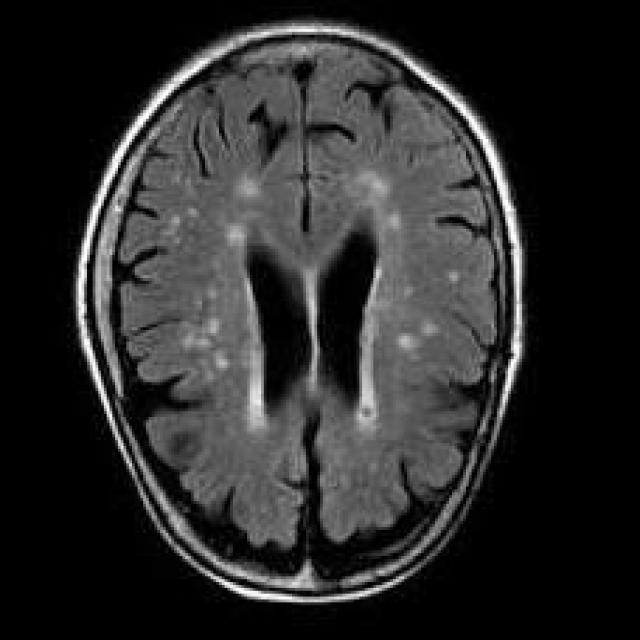notumor: (76, 20, 522, 599)
